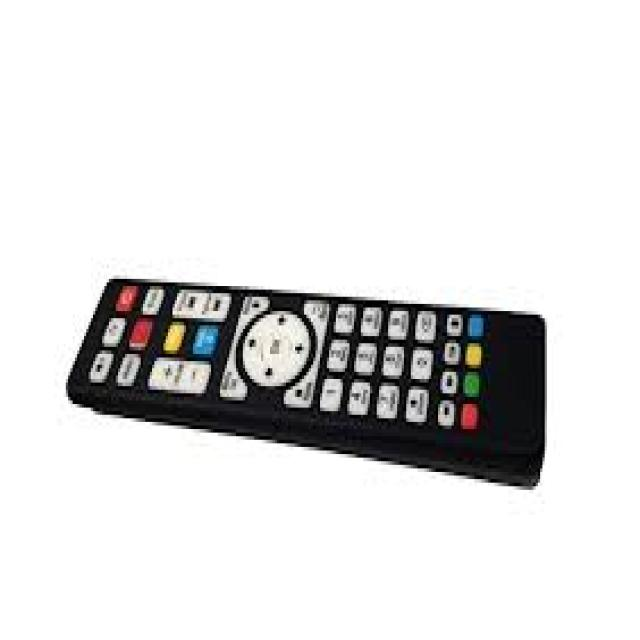remote: (50, 271, 552, 491)
